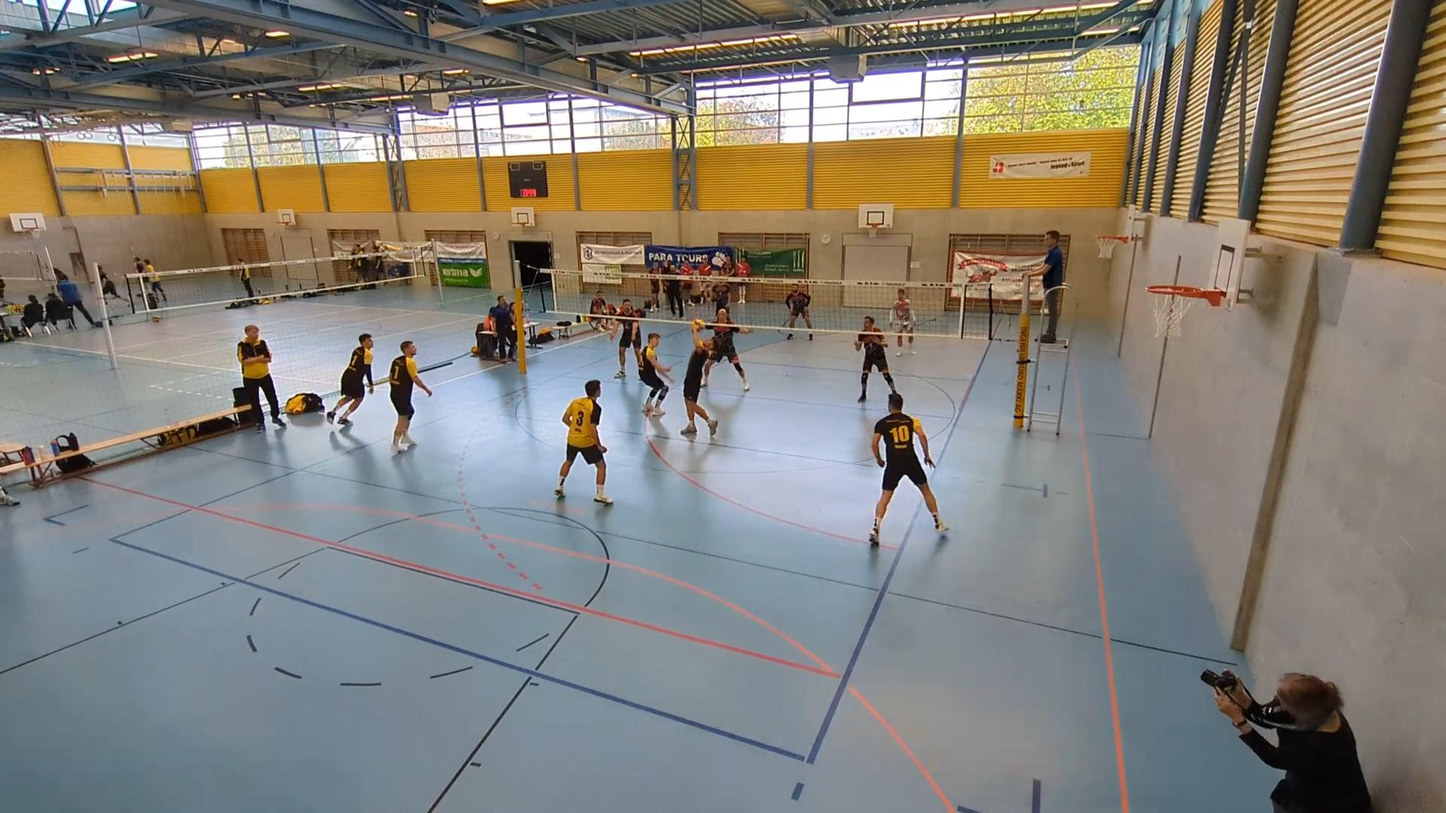alzata: (682, 322, 732, 445)
